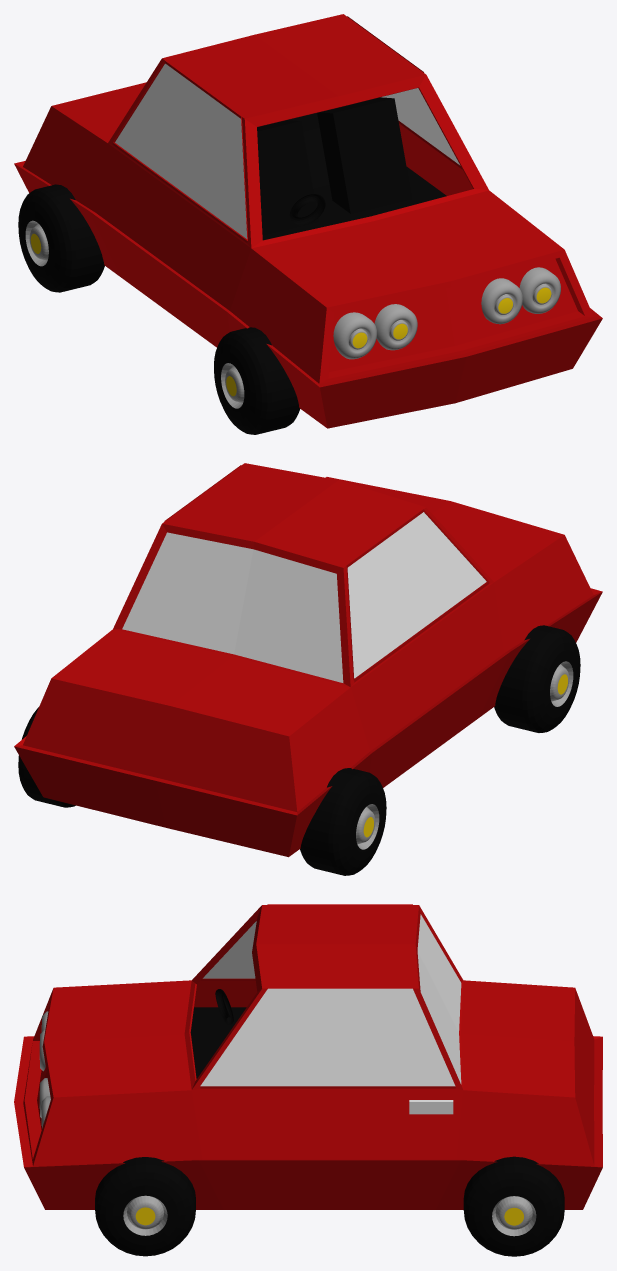
File: 自動車.fbx
3 views of the same model, one above another, from view 1: azimuth 30°, elevation 25°; view 2: azimuth 150°, elevation 25°; view 3: azimuth 270°, elevation 25° (orthographic). The views are drawn at different scales.
Parts seen in each view (by area): view 1: 立方体.014, 立方体.016, 円柱.001, 円柱, 平面, 円柱.002, 円柱.003, 平面.001; view 2: 立方体.014, 円柱.001, 円柱; view 3: 立方体.014, 円柱.001, 円柱, 平面, 立方体.015.
Part boxes in pixels (x1,y1,x2,y2): 立方体.014: (14,14,602,428); 立方体.016: (257,97,411,235); 円柱.001: (18,184,104,292); 円柱: (214,327,299,434); 平面: (262,113,446,240); 円柱.002: (333,267,560,359); 円柱.003: (374,278,522,350); 平面.001: (289,194,325,225); 立方体.014: (14,463,602,857); 円柱.001: (18,707,386,875); 円柱: (494,625,580,732); 立方体.014: (14,904,602,1209); 円柱.001: (463,1156,564,1256); 円柱: (95,1157,195,1256); 平面: (190,1007,246,1078); 立方体.015: (409,1100,453,1114).
Size of the model in its own units: 68.84 by 50.38 by 111.
